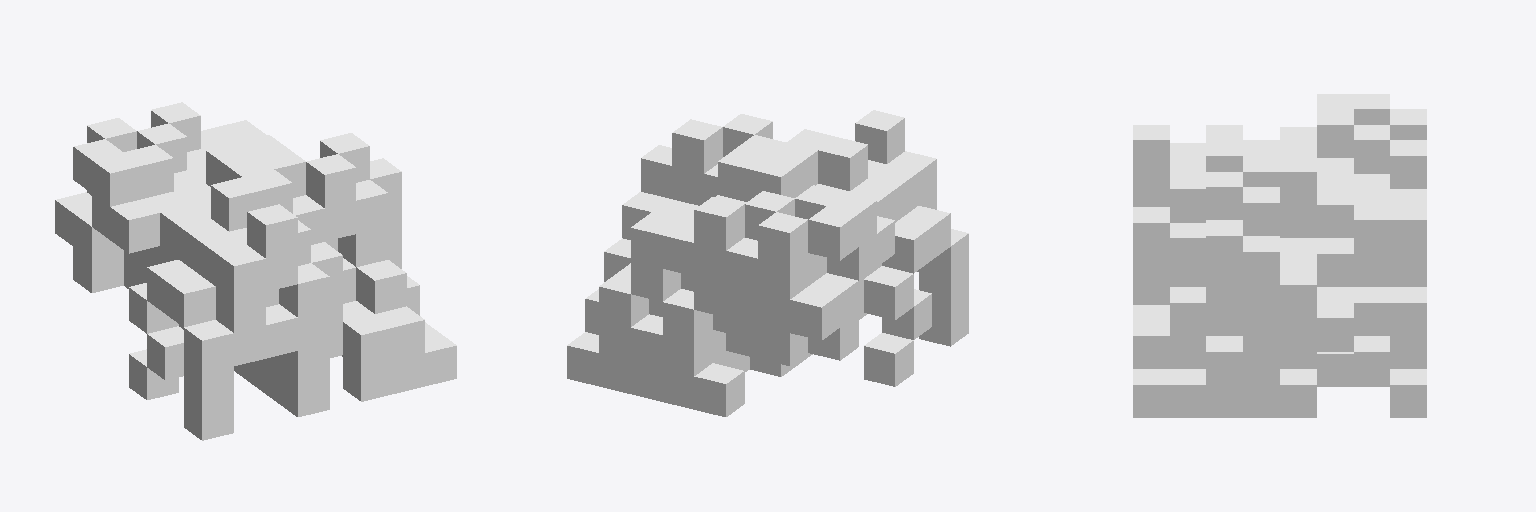
Rendered from rock.vox.obj.
3 views of the same model, side by side, from view 1: azimuth 30°, elevation 25°; view 2: azimuth 150°, elevation 25°; view 3: azimuth 270°, elevation 25° (orthographic).
Visible parts, largest first — view 1: object 1; view 2: object 1; view 3: object 1.
Boxes of the visible parts, box(x1,y1,x2,y2) form: object 1: box(55, 102, 456, 440); object 1: box(567, 110, 968, 416); object 1: box(1133, 94, 1426, 417).
Bounding box in the file's own units: 0.8 × 0.6 × 0.8.